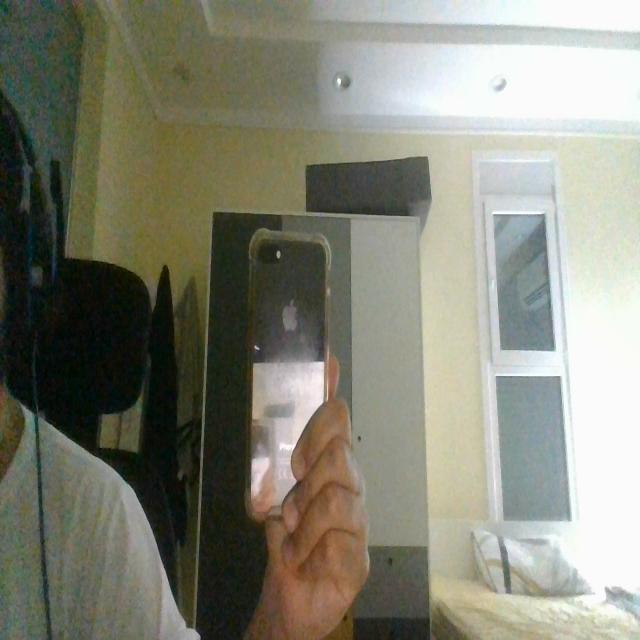Phone: (243, 226, 337, 533)
